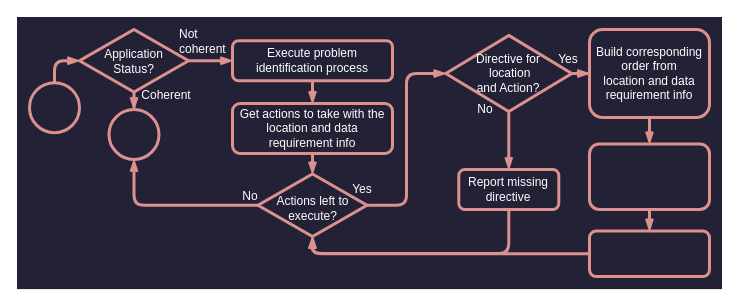
Image size: 739x307. Some labels were removed from this diagram. The shapes that lost their labels are listed below. From the top down, each one's centre as x and y in pixels, then its label:
At point (54, 107): "Start".
At point (133, 134): "End".
At point (649, 176): "Add action to things tried in location for data requirement".
At point (649, 253): "Send Order to executor service".
